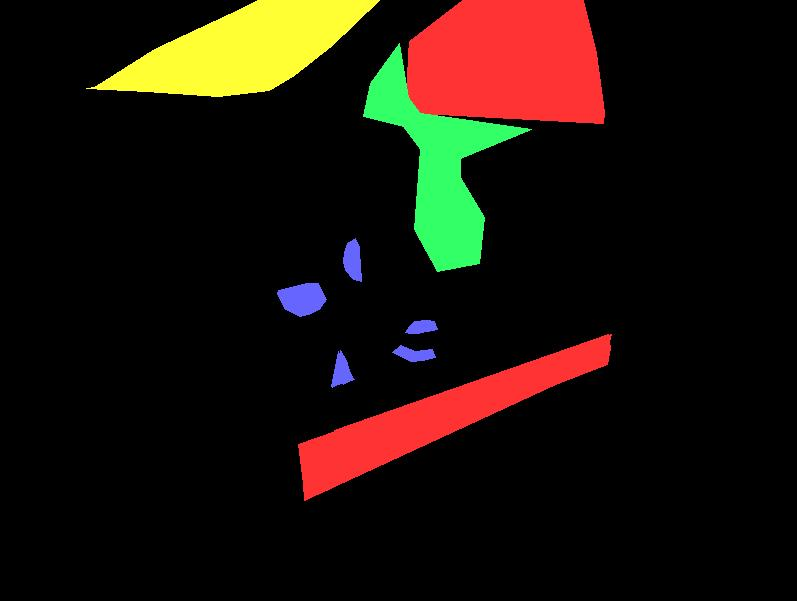Broken part: (363, 43, 531, 271)
Cracked: (86, 0, 379, 96)
Missing part: (298, 334, 611, 500), (327, 334, 610, 490), (405, 0, 604, 123), (408, 4, 585, 118)
Scratch: (277, 283, 326, 316), (331, 351, 354, 386), (343, 238, 361, 281), (392, 345, 435, 361), (338, 350, 353, 384), (405, 320, 437, 333), (332, 376, 343, 387)
